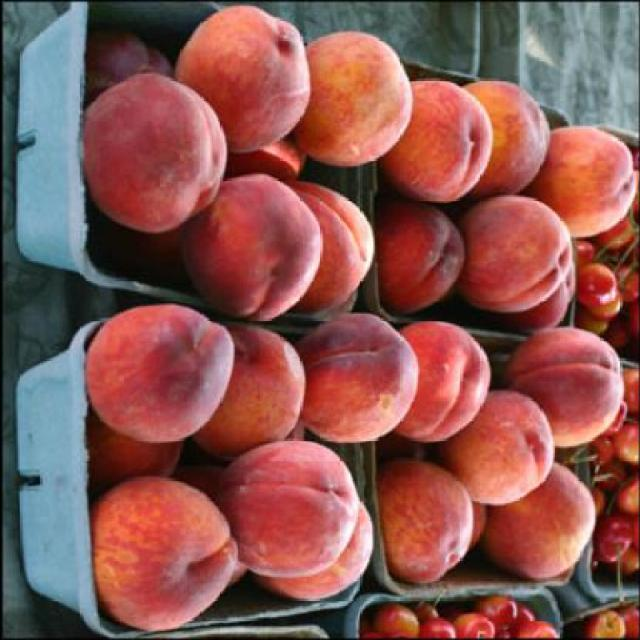Peach: (77, 6, 635, 634), (80, 67, 229, 239)
